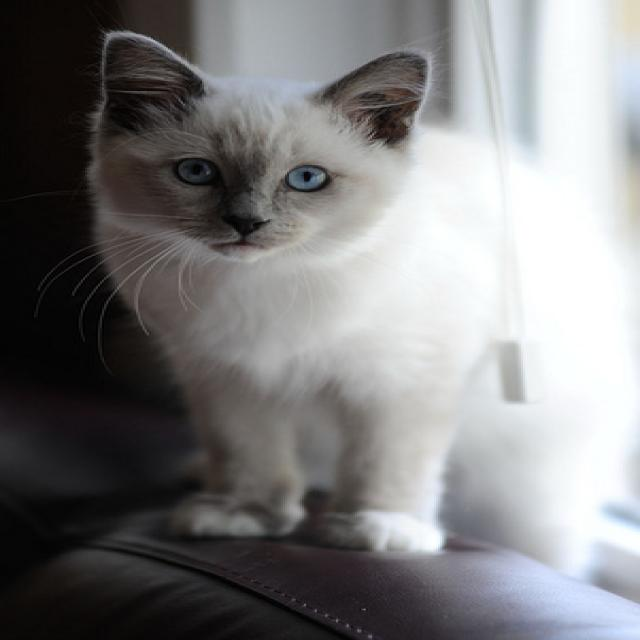Ragdoll: (82, 27, 638, 584)
